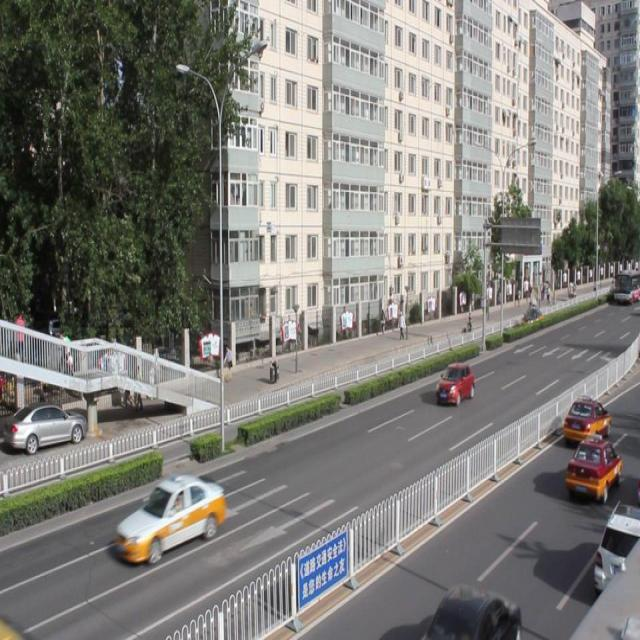car: (116, 471, 225, 560), (425, 579, 521, 640), (595, 501, 640, 592), (565, 436, 619, 501), (564, 396, 611, 443), (436, 360, 474, 402), (519, 306, 542, 332)
van: (560, 532, 640, 640)
